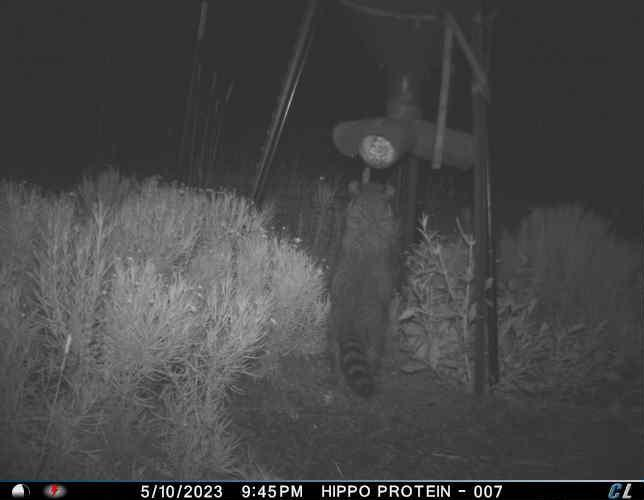Raccoon: (326, 168, 397, 397)
